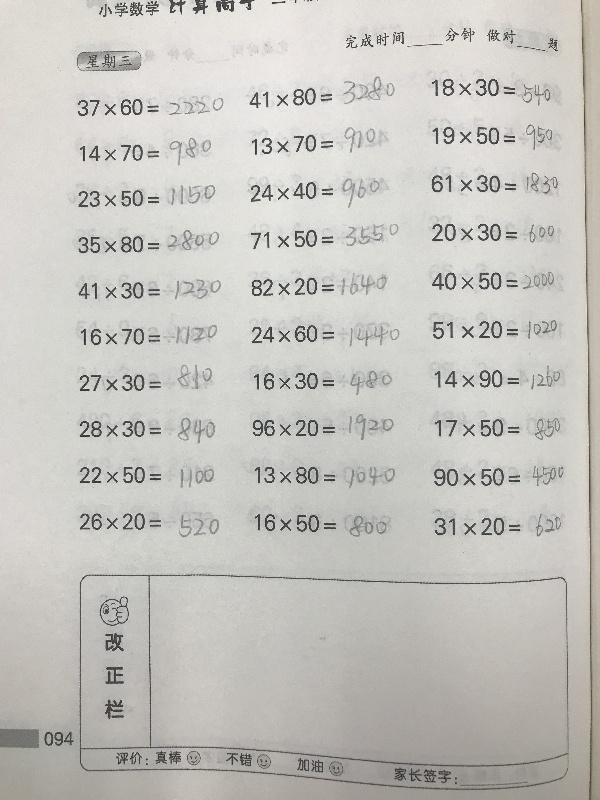equation: (76, 362, 221, 398), (246, 175, 384, 212), (249, 410, 398, 444), (76, 413, 218, 448), (245, 79, 398, 111), (76, 508, 223, 541), (77, 137, 216, 171), (251, 367, 396, 399), (248, 223, 403, 252), (429, 308, 561, 342), (246, 463, 399, 492), (75, 273, 218, 304), (249, 509, 394, 539), (248, 124, 379, 157), (76, 461, 215, 492), (74, 227, 222, 256), (247, 269, 390, 299), (429, 121, 557, 154), (429, 511, 568, 541), (430, 364, 564, 395), (248, 319, 396, 347), (431, 414, 565, 444), (73, 94, 227, 120), (76, 322, 221, 349), (428, 74, 555, 104), (427, 267, 567, 294), (74, 183, 219, 209), (427, 168, 561, 196), (430, 463, 568, 490), (428, 219, 558, 245)
